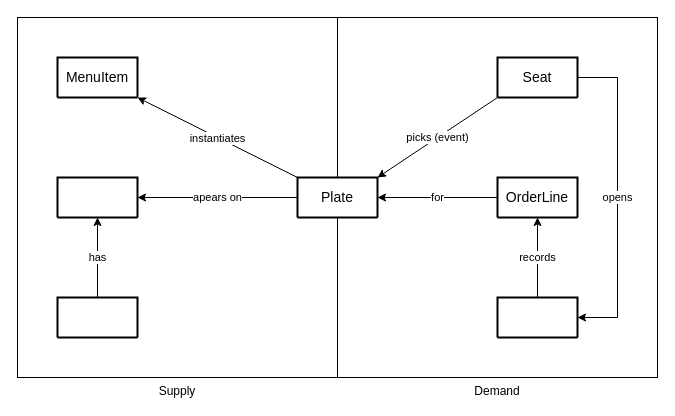
The diagram is 675 pixels wide and 416 high, and some of its shapes have lost their labels. Here are the shapes that lost their labels. From the top down, the centre of each, then its label:
point 97,197: BeltSlot
point 97,317: Belt
point 537,317: Order
